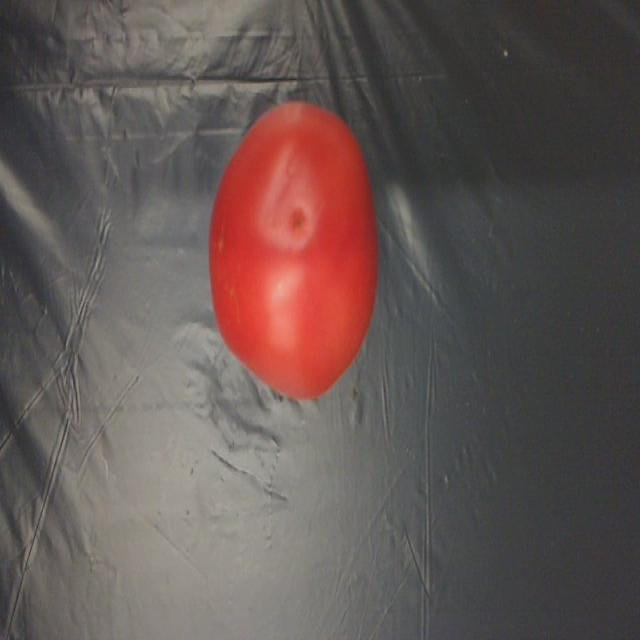kirmizi: (210, 101, 373, 409)
